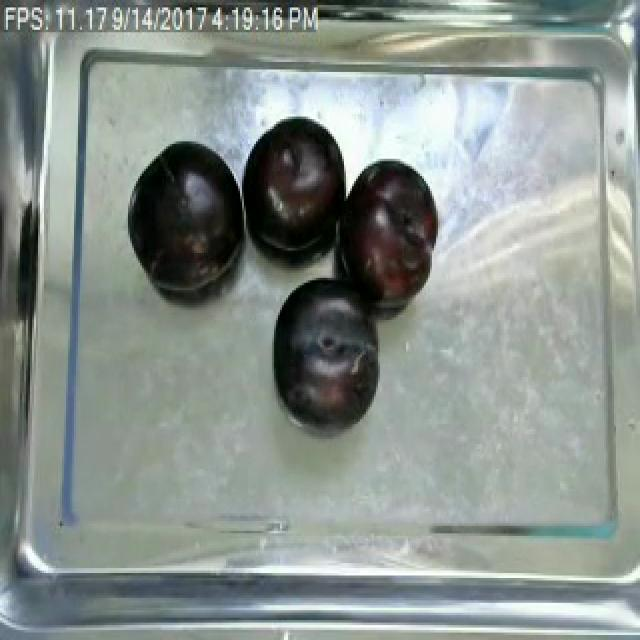Fruit: (124, 136, 248, 298), (262, 273, 384, 432), (336, 154, 444, 312), (240, 112, 350, 258)
